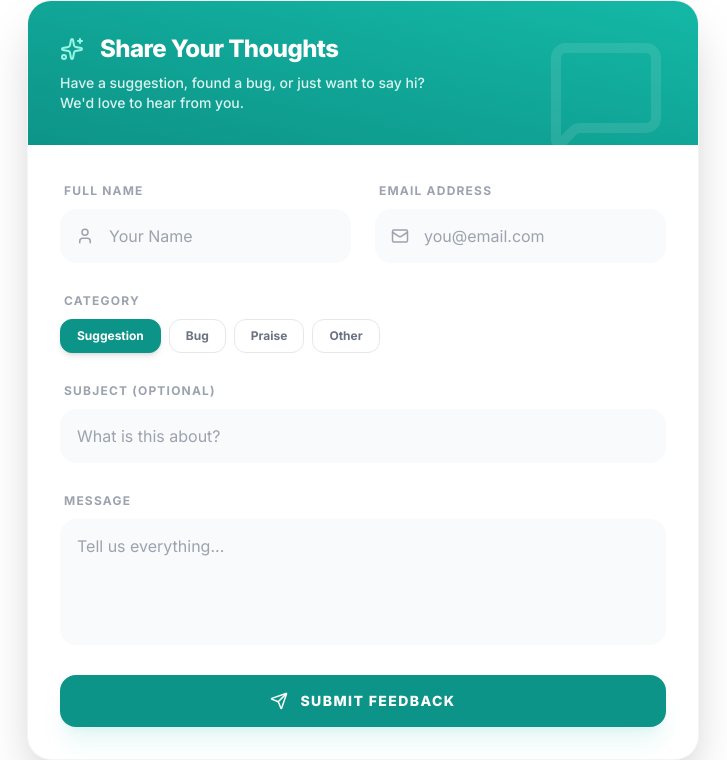
Test: FeedbackForm › disables the button while sending
The image size is (727, 768).
Type "Ama" into the field with placeholder "Your Name" at coordinates (206, 236), box [60,209,351,263]
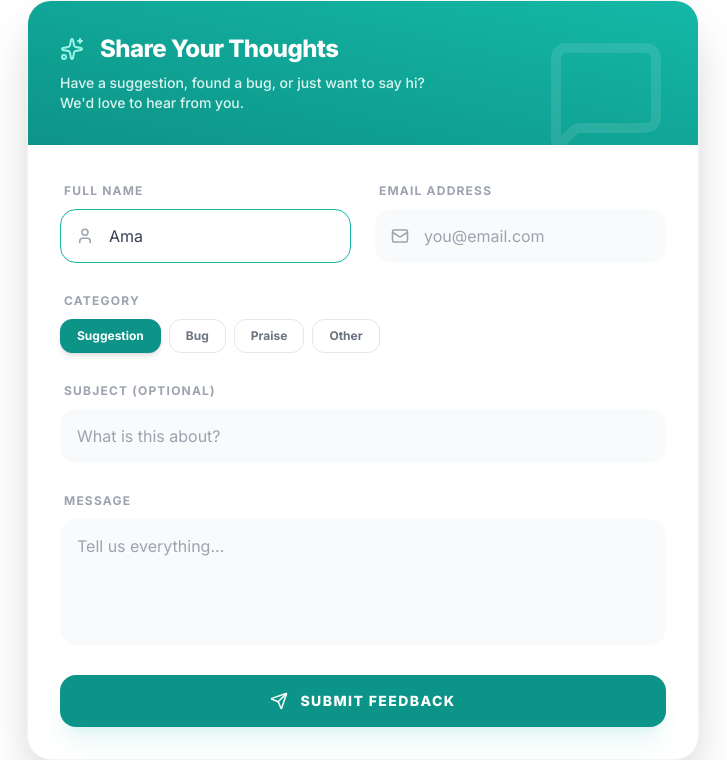
Type "ama@x.lk" into the field with placeholder "you@email.com" at coordinates (520, 236), box [375,209,666,263]
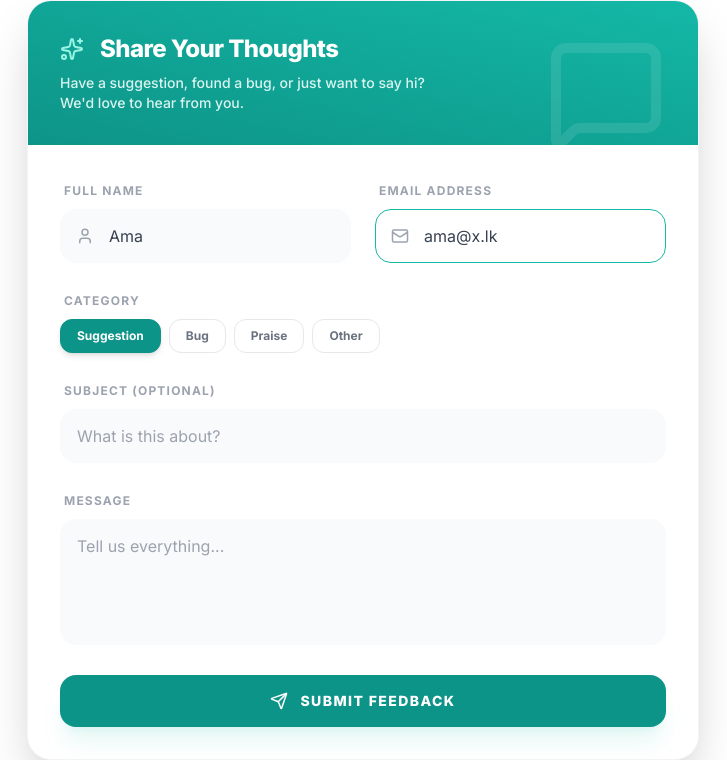
Type "Great app" into the text box with placeholder "Tell us everything..." at coordinates (363, 582), box [60,519,666,645]
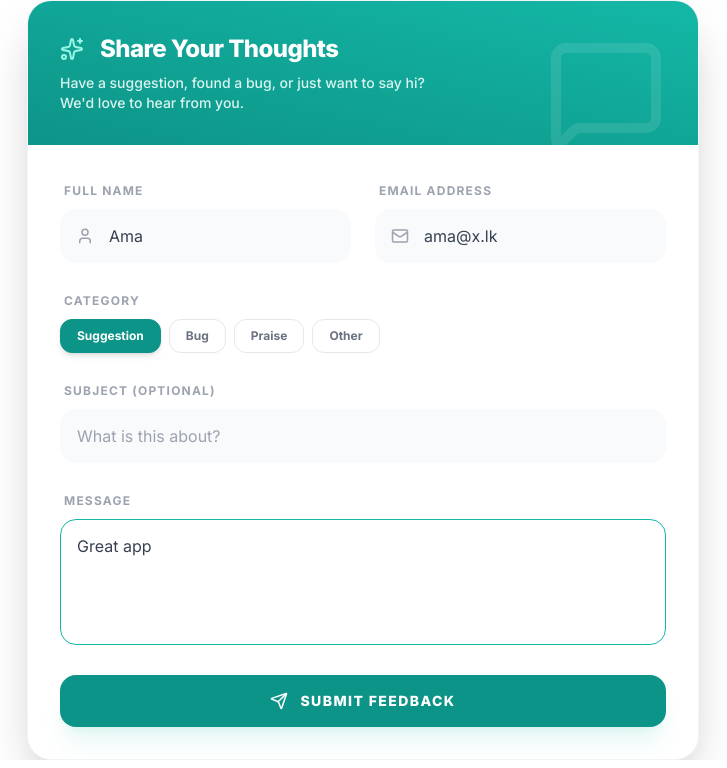
Click the button "SUBMIT FEEDBACK" at coordinates (363, 701), box [60,675,666,727]
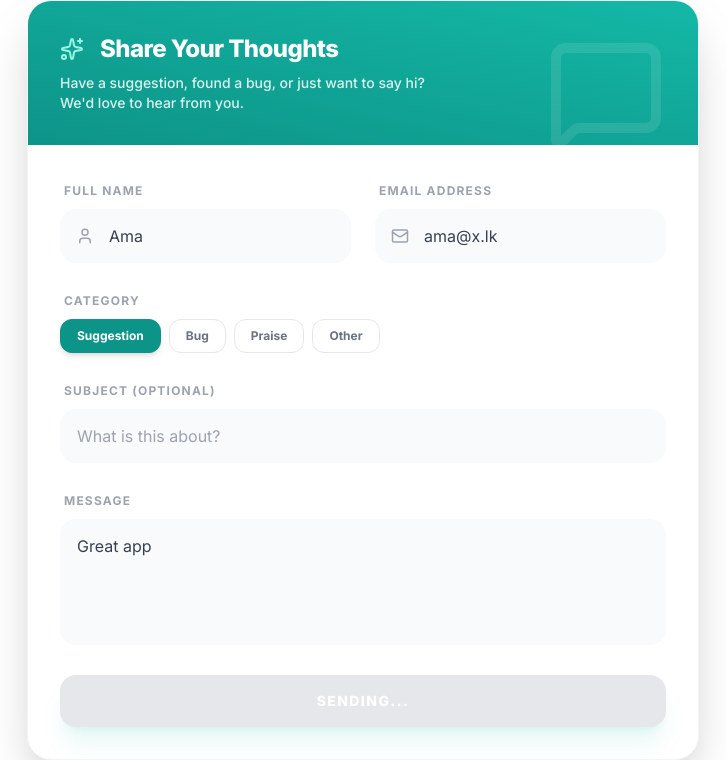
expect the button "SENDING..." is disabled: met, box [60,675,666,727]
